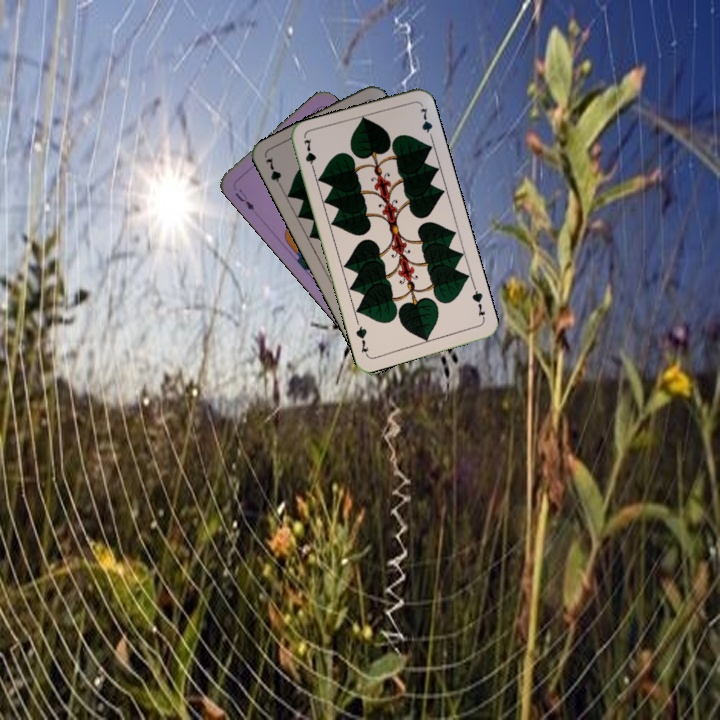EU: (231, 185, 257, 213)
G7: (261, 153, 286, 192), (299, 135, 319, 175), (468, 283, 488, 323)
